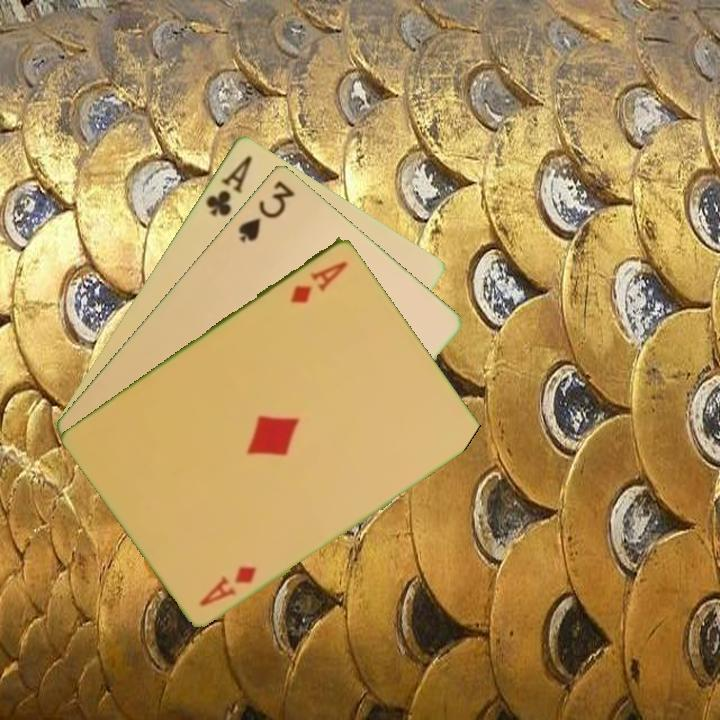3s: (234, 176, 298, 245)
Ac: (202, 151, 255, 219)
Ad: (286, 257, 351, 306), (195, 561, 260, 609)
